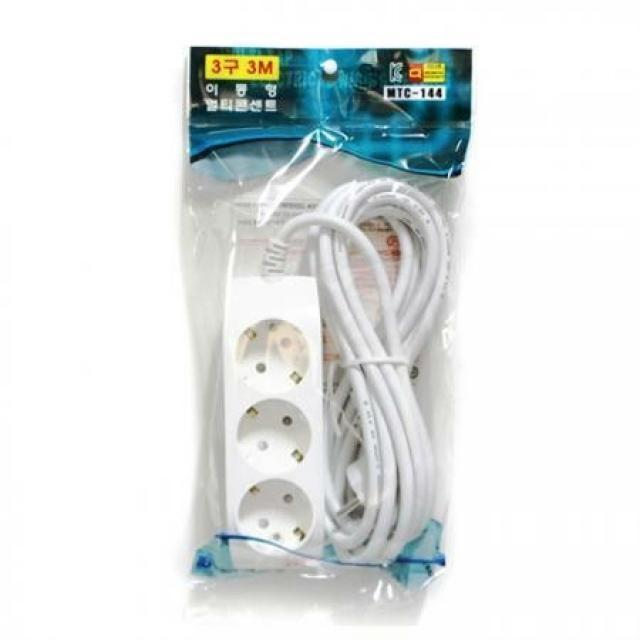typeb: (209, 246, 349, 603)
